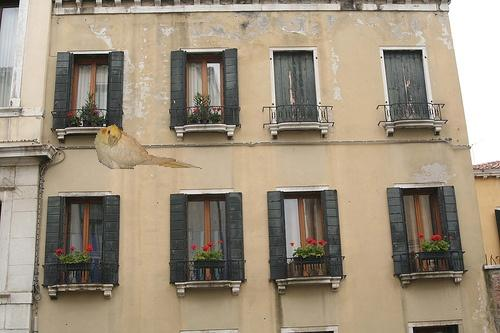tampered: (95, 125, 202, 169)
